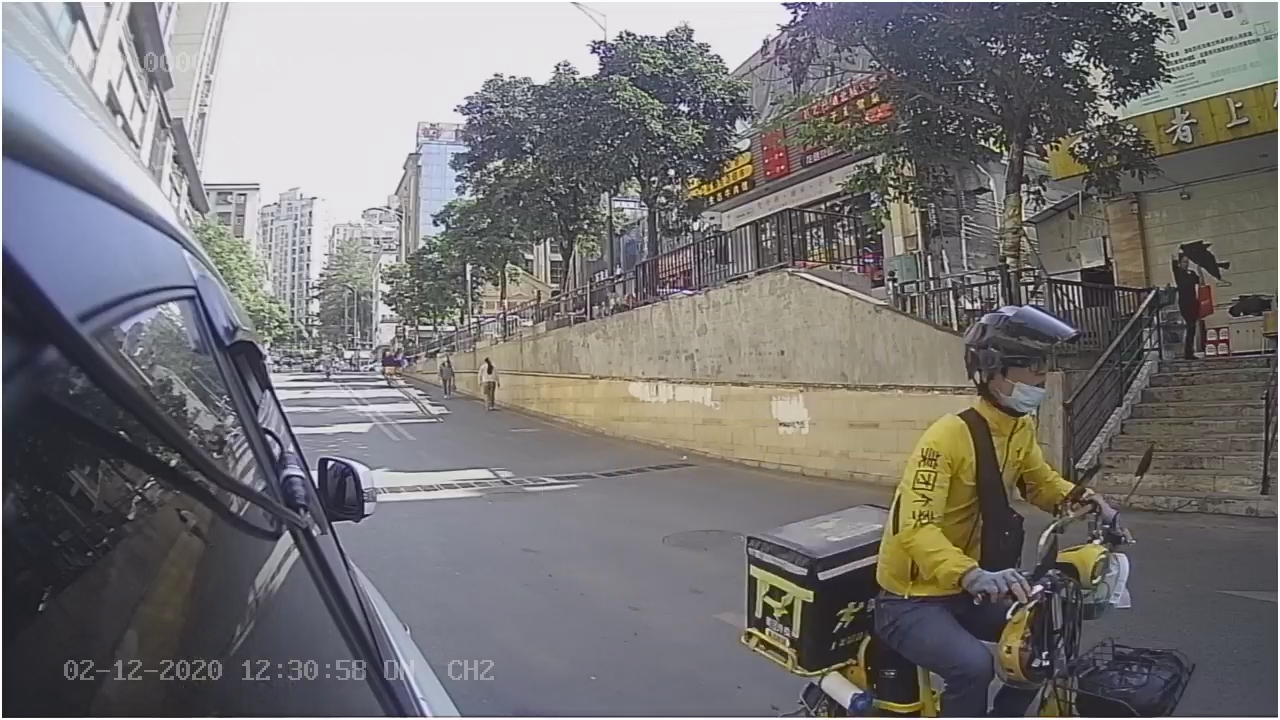person: (881, 305, 1089, 599)
